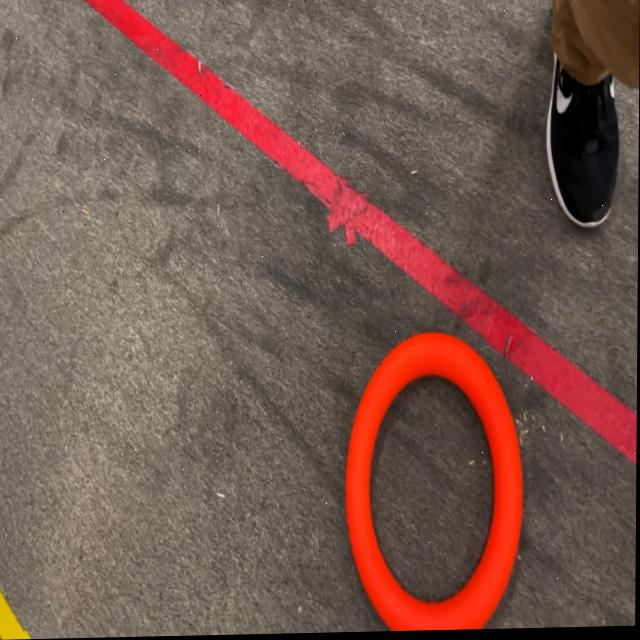note: (344, 333, 524, 634)
